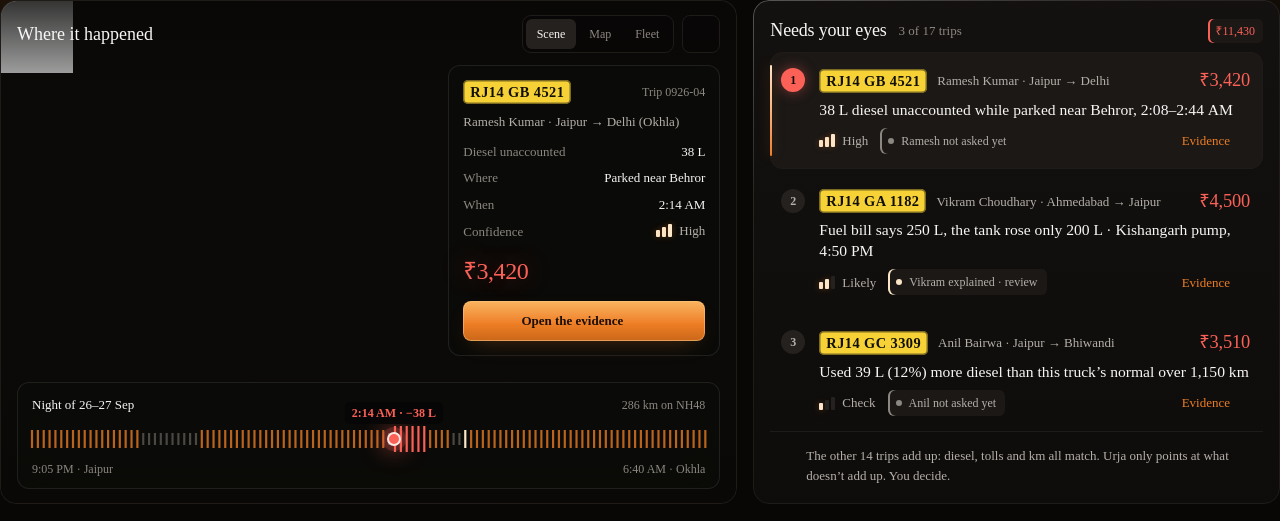
HeroCard · selection with a map that never loads (Review focus #4, TC-025) › Fleet shows the 24 trucks' counts and the Now line; a row then returns to Map
Click the button "Fleet": (647, 34) [624,19,670,49]
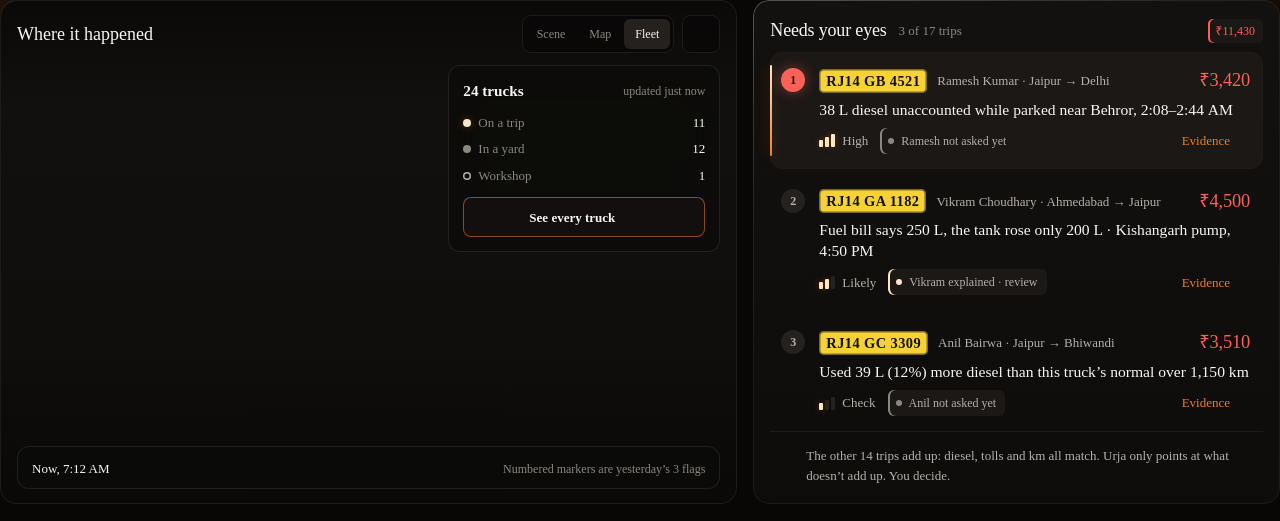
Now the text "24 trucks" is shown, box [463,80,524,103]
Now the text "Now, 7:12 AM" is shown, box [32,458,110,478]
Now the element with class "rail" is gone
Click the 2nd button with class "eye-sel": (1017, 242) [771,174,1262,309]
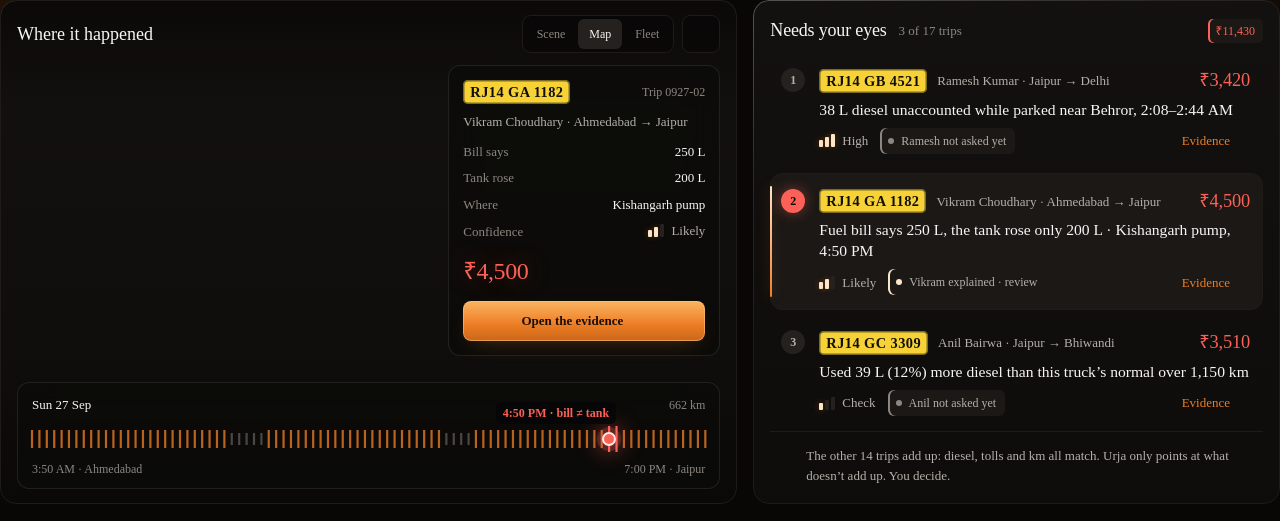
Now the text "RJ14 GA 1182" is shown, box [463,80,570,104]
